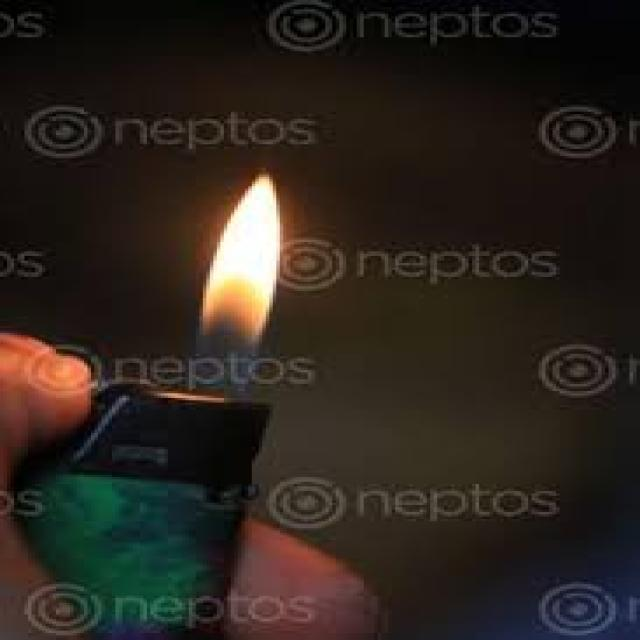fire: (192, 171, 284, 398)
